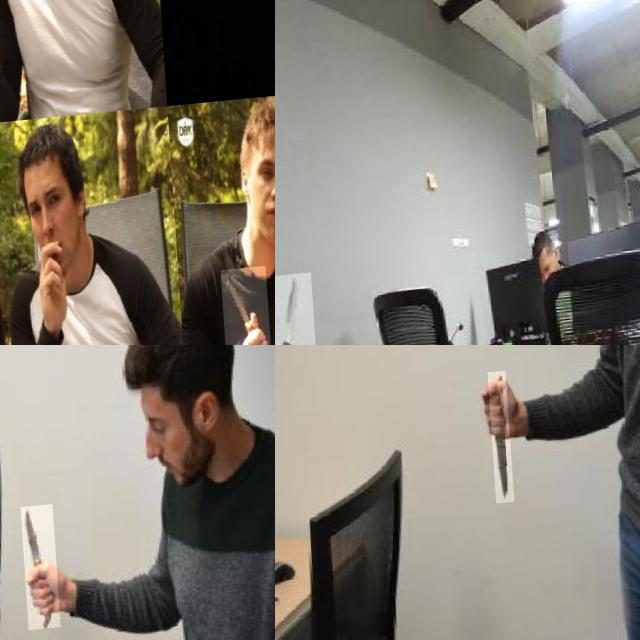-: (175, 0, 275, 88), (18, 510, 56, 636), (213, 274, 263, 345), (484, 378, 509, 510), (275, 278, 310, 345), (0, 269, 25, 345), (0, 56, 21, 133)
